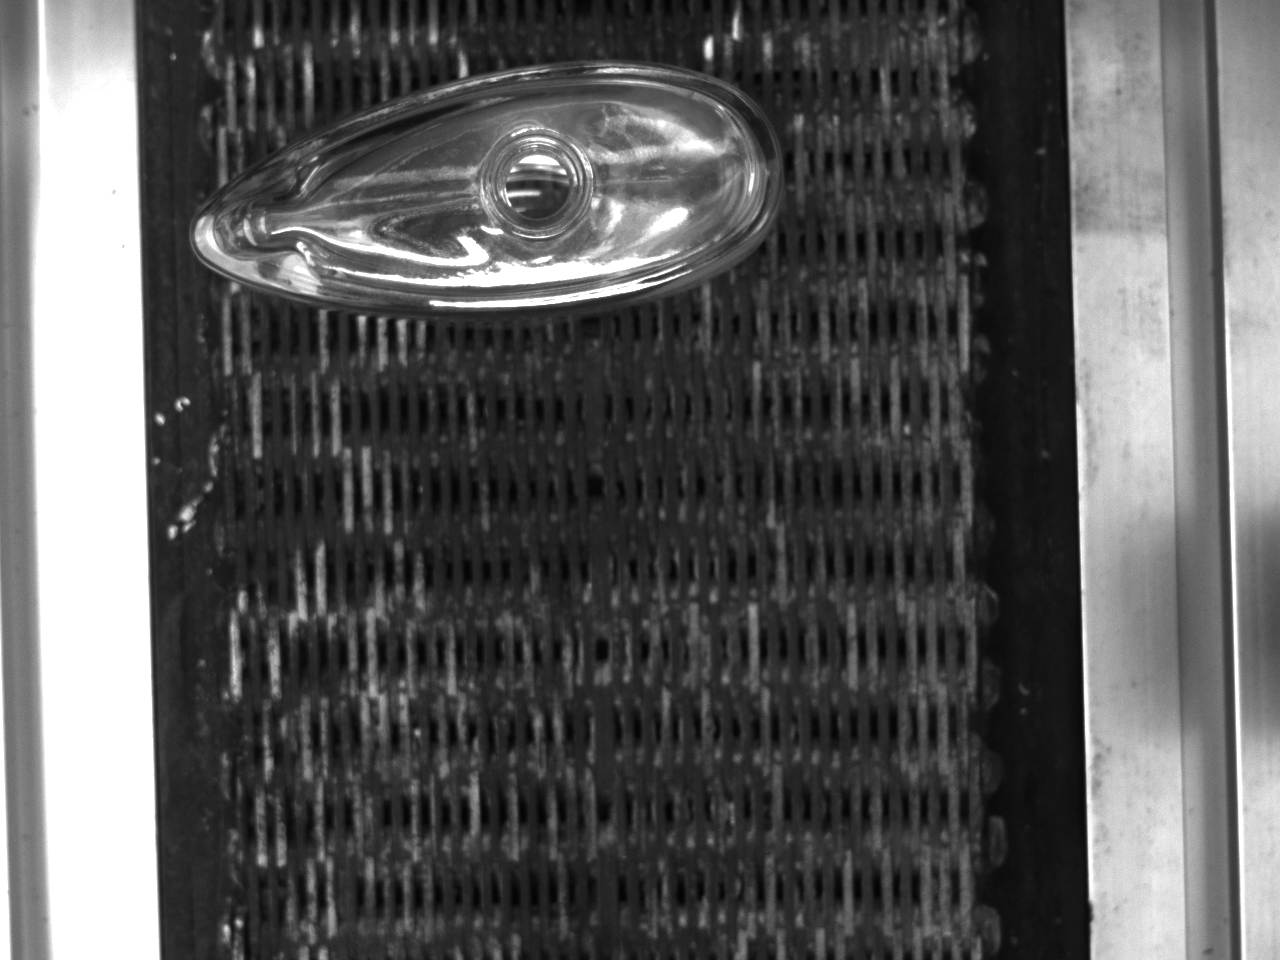bottleneck: (482, 128, 594, 240)
